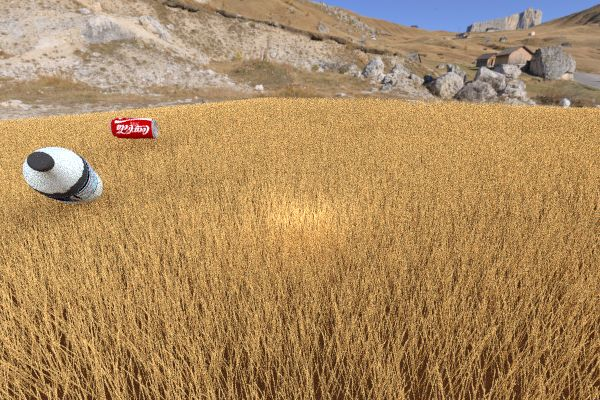bottle: (22, 146, 102, 204)
can: (519, 100, 575, 122), (109, 117, 158, 139)
